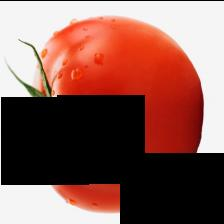red: (5, 14, 204, 212)
